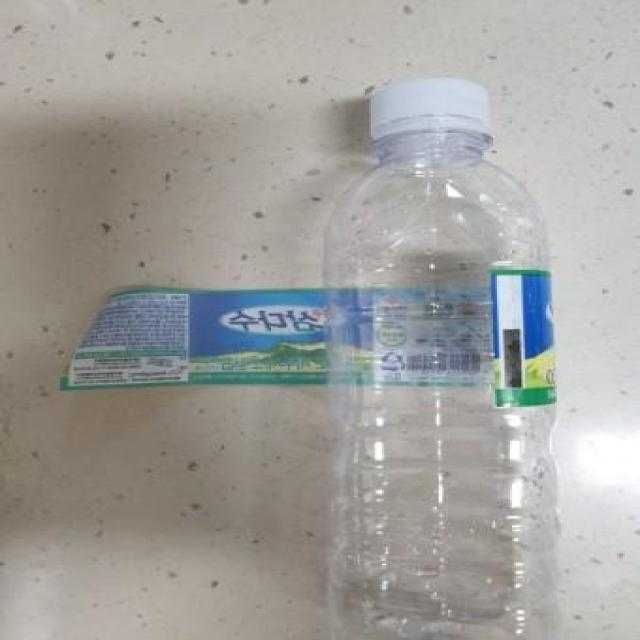bottle: (326, 78, 570, 640)
